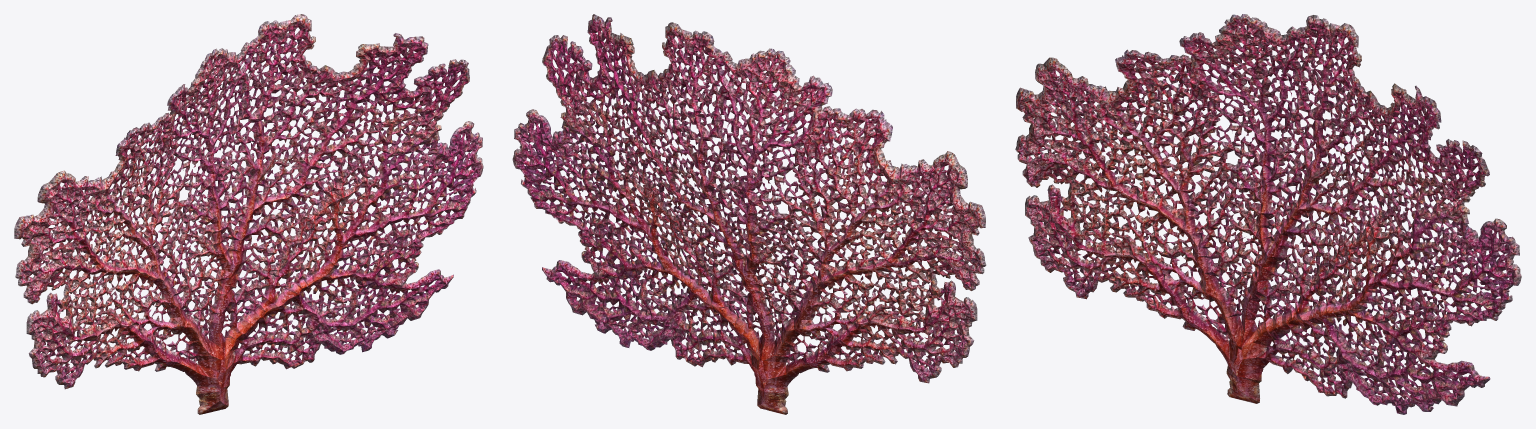
File: sea-fan.glb
3 renders of one model, left to right at view 1: azimuth 30°, elevation 25°; view 2: azimuth 150°, elevation 25°; view 3: azimuth 330°, elevation 25°, orthographic. The views are drawn at different scales.
Visible parts, largest first — view 1: world; view 2: world; view 3: world.
Part boxes in pixels (left/top/right/bottom): world: left=14, top=14, right=483, bottom=414; world: left=512, top=14, right=986, bottom=414; world: left=1015, top=14, right=1521, bottom=414.
Size of the model in its own units: 1.79 by 1.35 by 0.2134.
Materials: 1 (1 with a texture image).
